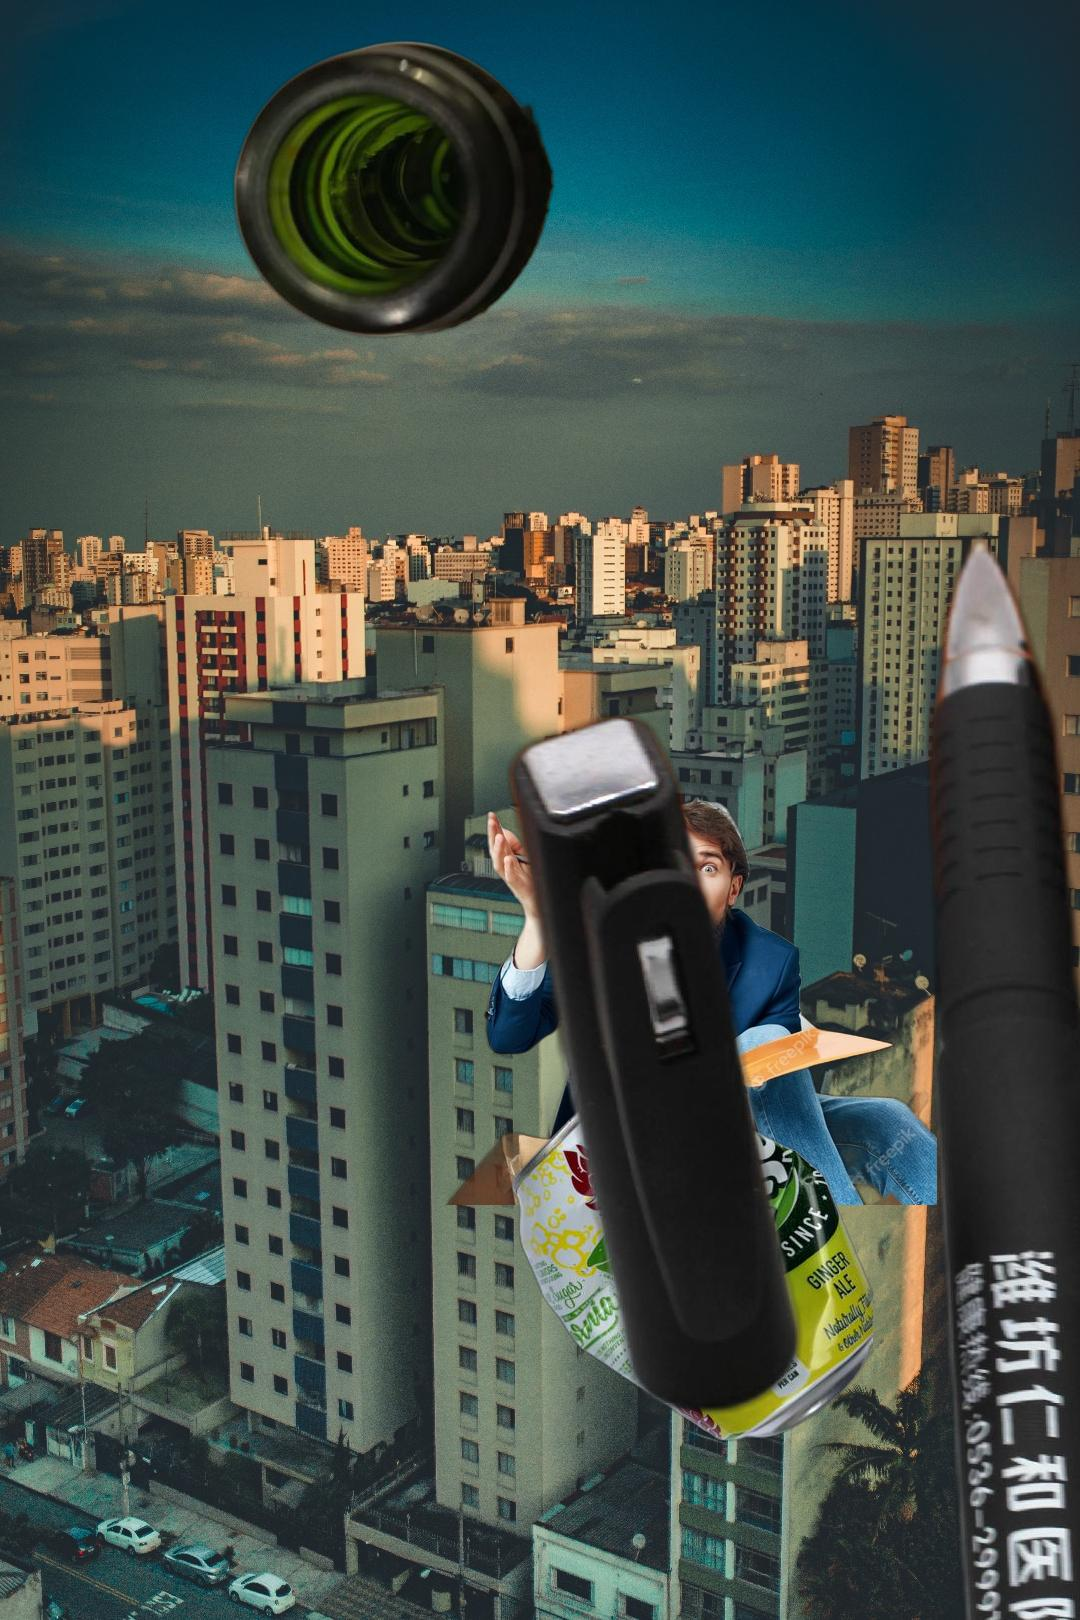glass: (229, 39, 558, 342)
metal-cans: (507, 1079, 873, 1444)
penholder: (137, 405, 1080, 1620)
trashbox-cardboard: (311, 794, 937, 1205)
